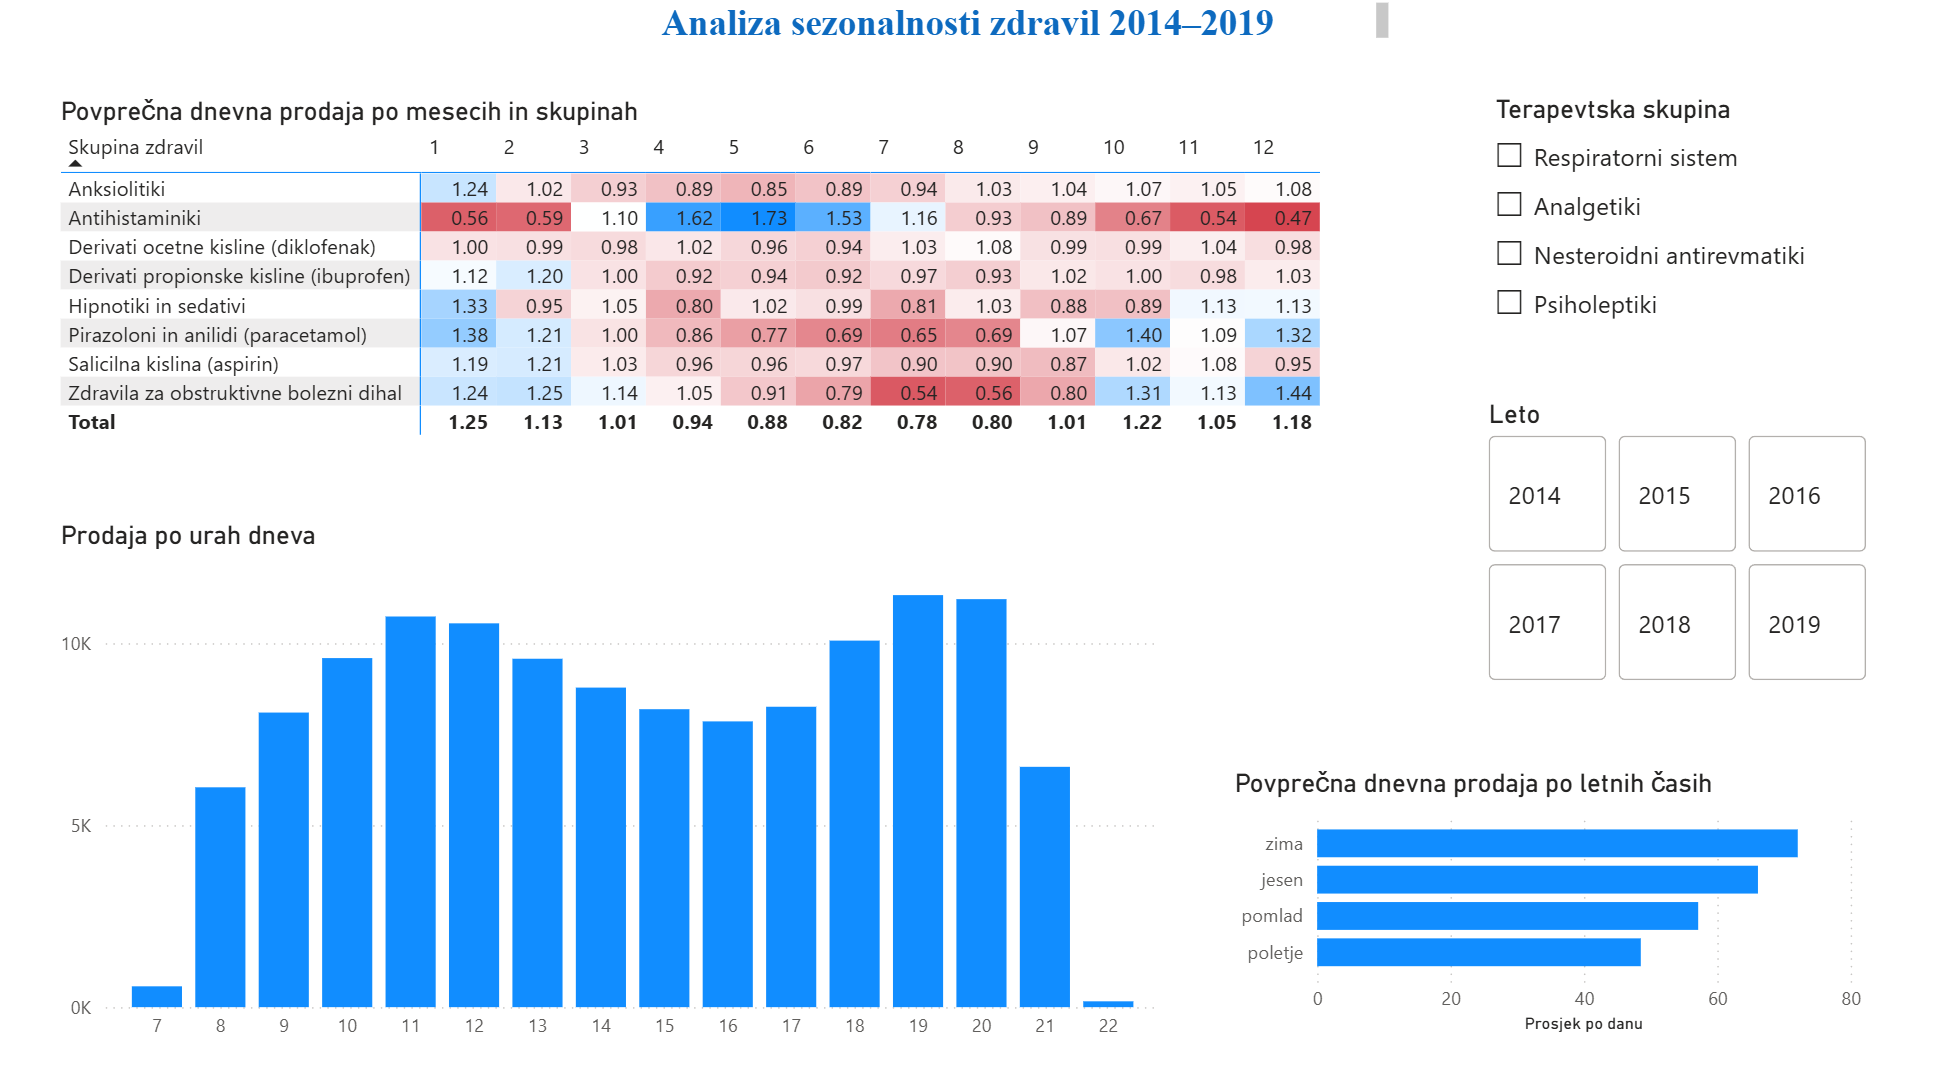

The page's visual inventory and layout, read from the dashboard file:
{"tool":"powerbi","page":{"name":"Sezonalnost","canvas":[1280,720],"ordinal":1},"visuals":[{"type":"pivotTable","title":"Povprečna dnevna prodaja po mesecih in skupinah","fields":{"Rows":["dw dim_atc.atc_name"],"Columns":["dw dim_date.month"],"Values":["dw fact_sales.Sezonski indeks"]},"box":[37.3,64.8,840.2,242.8],"z":0},{"type":"clusteredColumnChart","title":"Prodaja po urah dneva","fields":{"Category":["dw fact_sales.hour"],"Y":["dw fact_sales.Ukupna prodaja"]},"box":[37.3,343.6,729,348.8],"z":1},{"type":"clusteredBarChart","title":"Povprečna dnevna prodaja po letnih časih","fields":{"Category":["dw dim_date.season"],"Y":["dw fact_sales.Prosjek po danu"]},"box":[805.6,504.5,420.1,179.3],"z":2},{"type":"listSlicer","title":"Terapevtska skupina","fields":{"Values":["dw dim_atc.therapeutic_group"]},"box":[976.4,64.8,249.3,287.9],"z":3},{"type":"advancedSlicerVisual","title":"Leto","fields":{"Values":["dw dim_date.year"]},"box":[971.8,264.4,258.5,190.4],"z":4},{"type":"textbox","box":[363.2,0,553,35.3],"z":5}]}

Visuals, with their boxes in screenshot pixels (x1, y1, x2, y2), scaled from the page's 1280x720 canvas onto the 1947x1091 screenshot:
"Povprečna dnevna prodaja po mesecih in skupinah" pivotTable: [x1=57, y1=98, x2=1335, y2=466]
"Prodaja po urah dneva" clusteredColumnChart: [x1=57, y1=521, x2=1166, y2=1049]
"Povprečna dnevna prodaja po letnih časih" clusteredBarChart: [x1=1225, y1=764, x2=1864, y2=1036]
"Terapevtska skupina" listSlicer: [x1=1485, y1=98, x2=1864, y2=534]
"Leto" advancedSlicerVisual: [x1=1478, y1=401, x2=1871, y2=689]
textbox: [x1=552, y1=0, x2=1394, y2=53]
